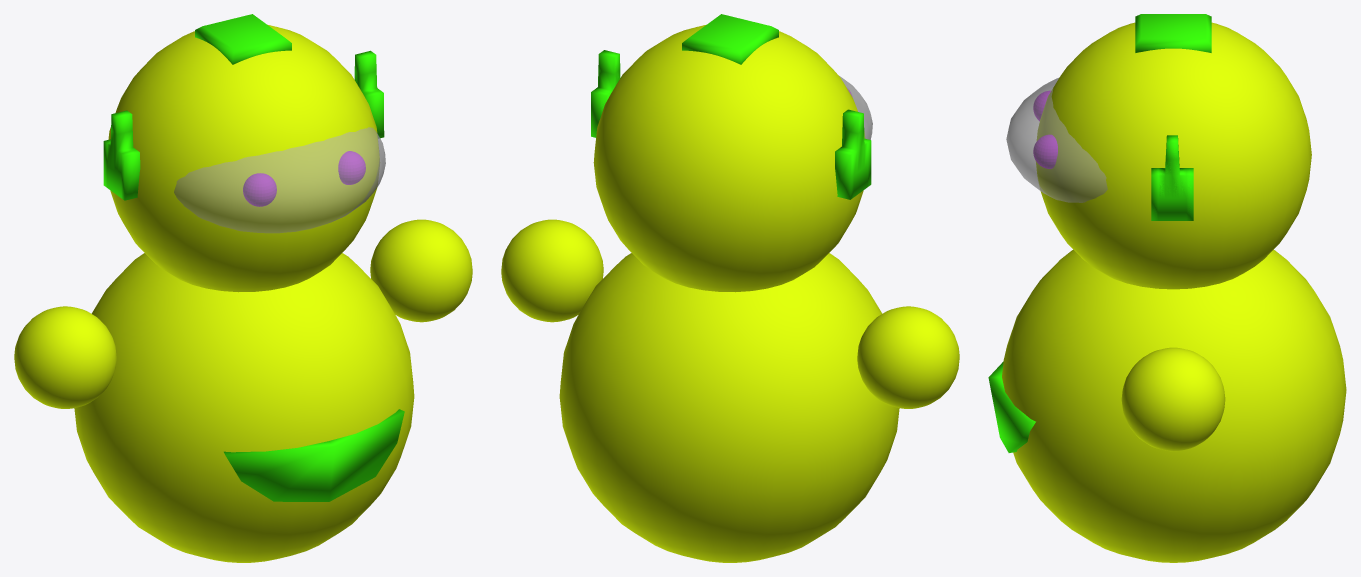
The model's file is flux.glb.
3 renders of one model, left to right at view 1: azimuth 30°, elevation 25°; view 2: azimuth 150°, elevation 25°; view 3: azimuth 270°, elevation 25°, orthographic.
Parts seen in each view (by area): view 1: Body, Face, Plane.004, Arm_-1, Arm_1, eye2; view 2: Body, Face, Arm_-1, Arm_1; view 3: Body, Face, Arm_1, Plane.004, eye2.
Part boxes in pixels (x1,y1,x2,y2): Body: [74, 253, 414, 562]; Face: [103, 14, 385, 292]; Plane.004: [224, 409, 404, 501]; Arm_-1: [14, 306, 116, 408]; Arm_1: [370, 219, 472, 322]; eye2: [243, 151, 365, 206]; Body: [559, 253, 899, 562]; Face: [591, 14, 872, 292]; Arm_-1: [857, 306, 959, 408]; Arm_1: [501, 219, 603, 322]; Body: [1002, 249, 1346, 562]; Face: [1006, 14, 1311, 289]; Arm_1: [1121, 347, 1225, 451]; Plane.004: [988, 361, 1035, 452]; eye2: [1033, 91, 1057, 168].
Bounding box in the file's own units: 3 × 3.32 × 2.07.
